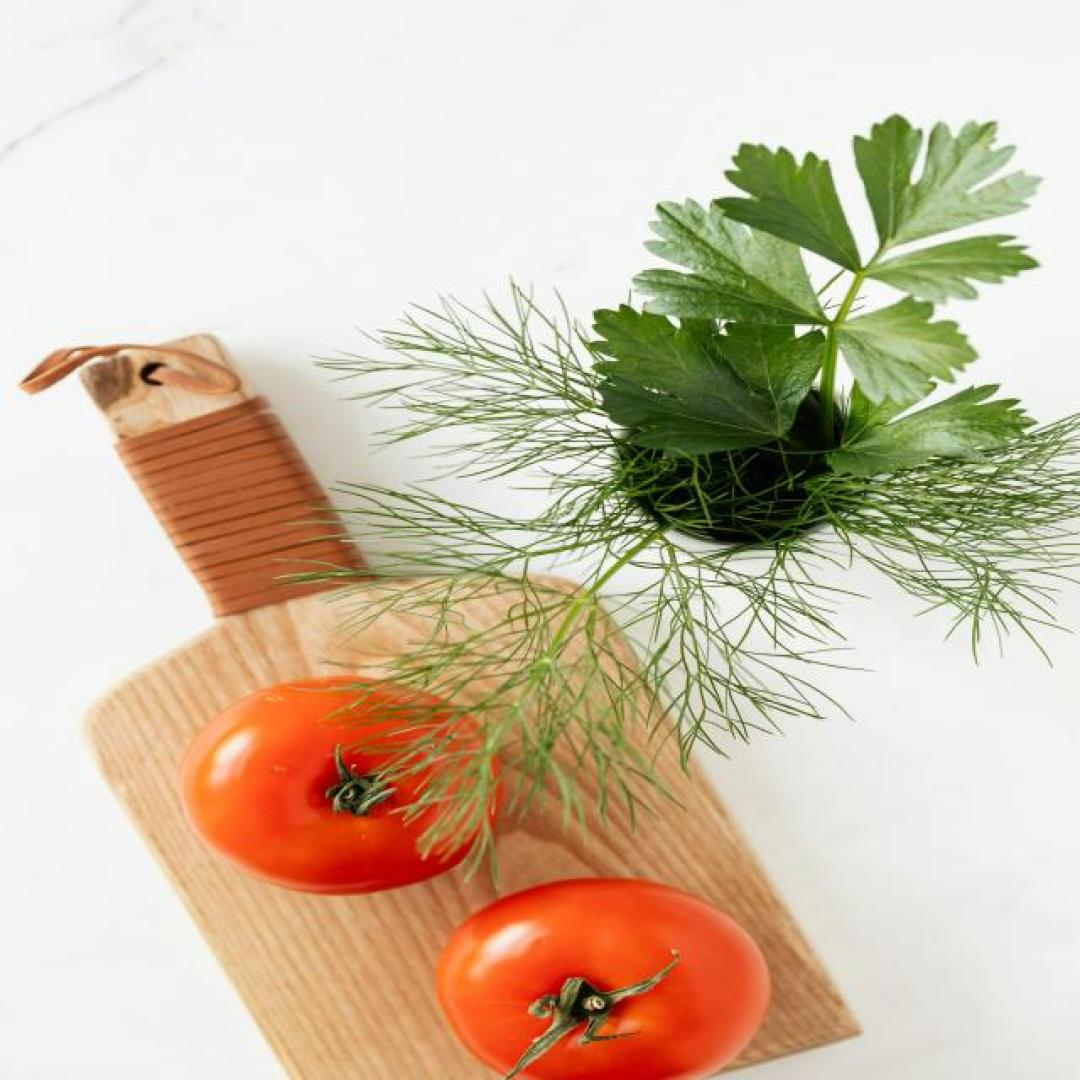matang: (179, 677, 508, 896), (430, 876, 774, 1080)
